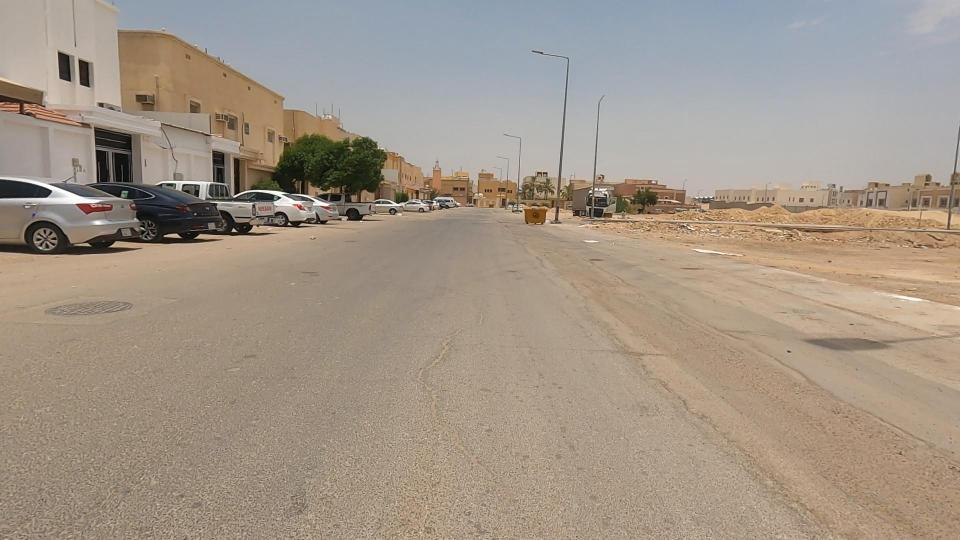GARBAGE: (653, 212, 726, 249), (559, 221, 600, 259), (680, 235, 732, 264), (295, 218, 328, 252)
SAND_ON_ROAD: (734, 194, 796, 225), (691, 196, 754, 224)
